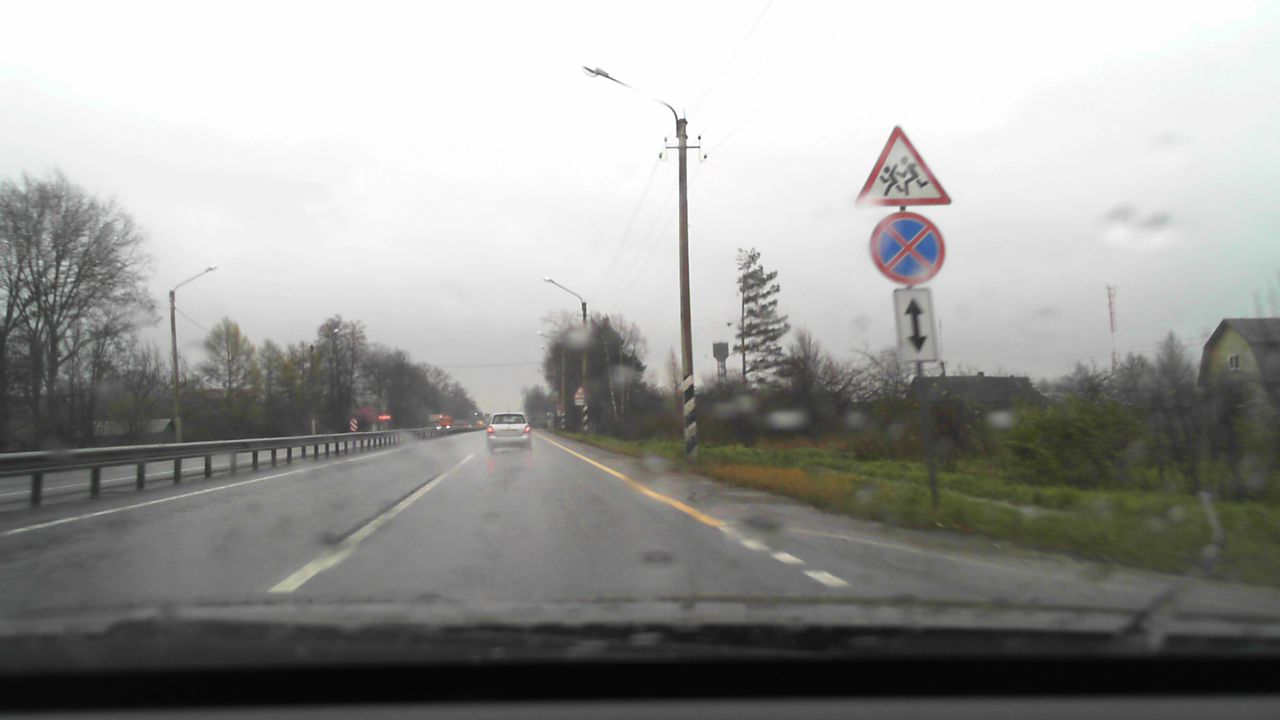No Parking: (870, 212, 944, 284)
